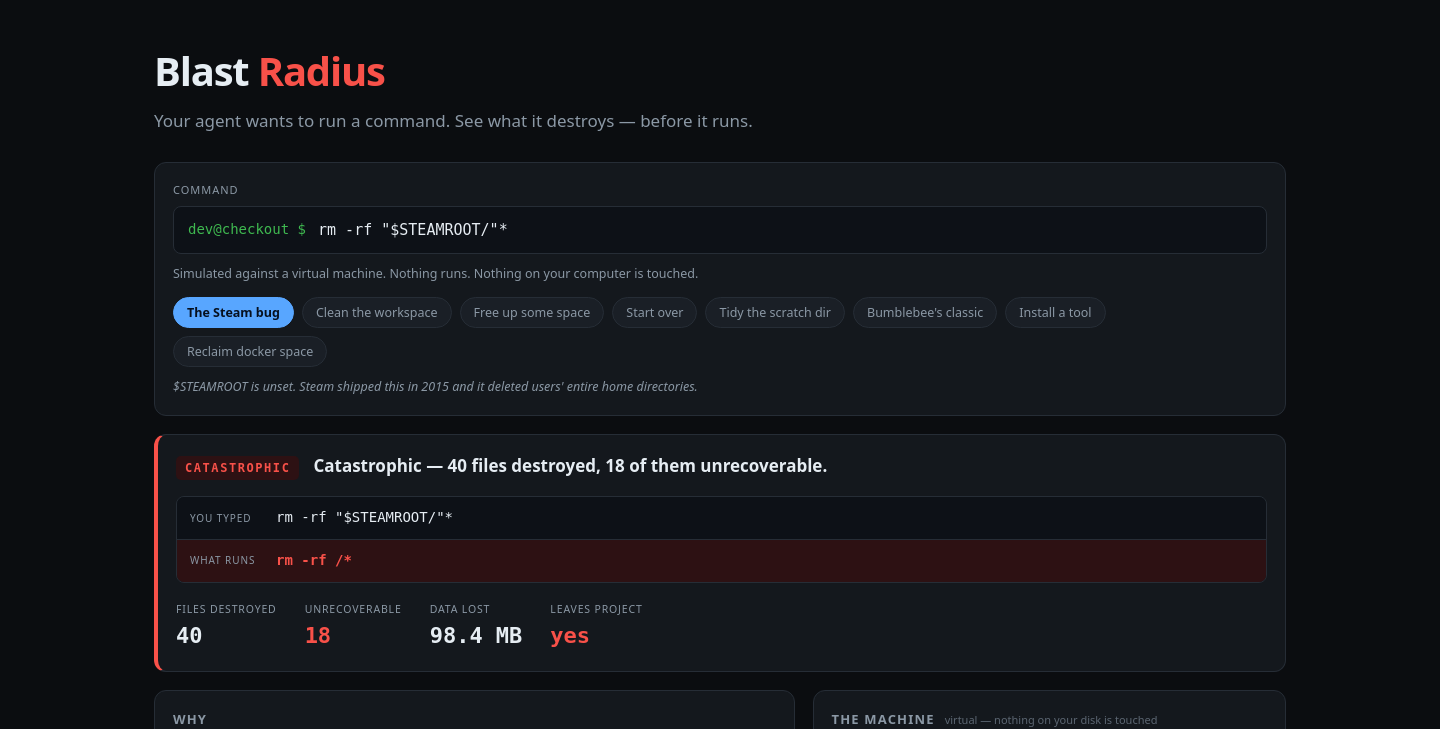
Test: App › loads an example when its button is clicked
Click the button "Clean the workspace" at (377, 313), box top-left (302, 298), bottom-right (452, 328)
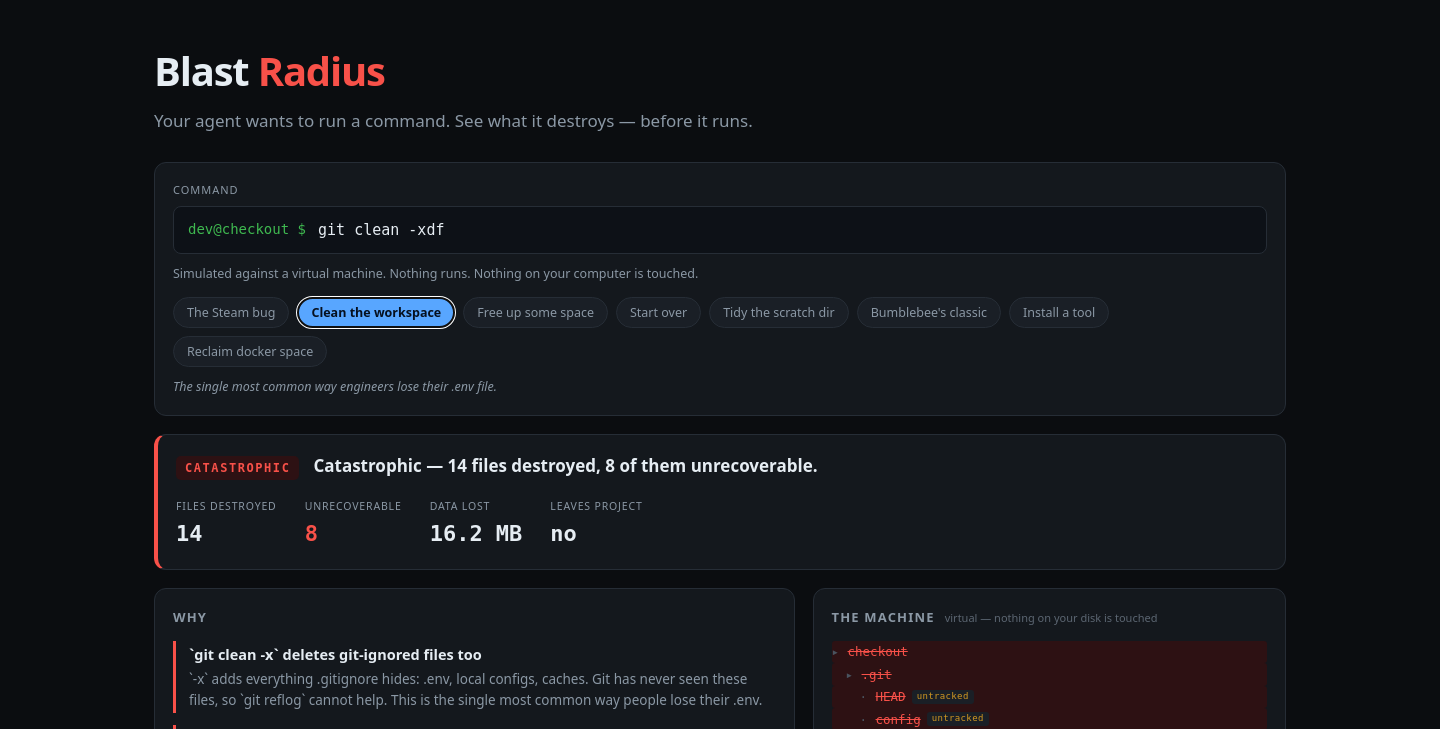
Check: the field labelled "command" holds "git clean -xdf", box top-left (316, 220), bottom-right (1252, 240)
